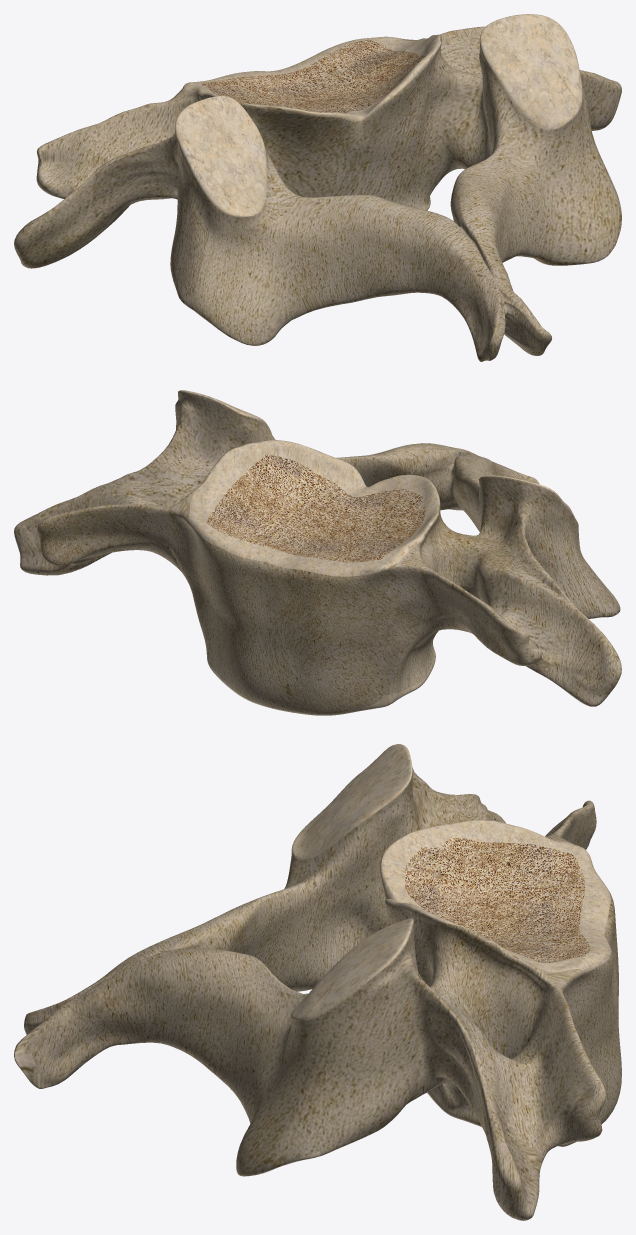
The model's file is vertebra.glb.
The picture shows the model from 3 angles, top to bottom: view 1: azimuth 30°, elevation 25°; view 2: azimuth 150°, elevation 25°; view 3: azimuth 270°, elevation 25°; orthographic projection. The views are drawn at different scales.
Visible parts, largest first — view 1: Object_2, Object_5, Object_4; view 2: Object_2, Object_4, Object_5; view 3: Object_2, Object_5, Object_4.
Part boxes in pixels (bbox=[...]): Object_2: bbox=[14, 26, 621, 361]; Object_5: bbox=[175, 14, 611, 342]; Object_4: bbox=[201, 40, 424, 113]; Object_2: bbox=[14, 391, 621, 713]; Object_4: bbox=[207, 454, 425, 562]; Object_5: bbox=[178, 390, 618, 715]; Object_2: bbox=[14, 767, 621, 1220]; Object_5: bbox=[238, 744, 611, 1176]; Object_4: bbox=[404, 838, 590, 962].
Size of the model in its own units: 0.1564 by 0.0549 by 0.1119.
Materials: 4 (4 with a texture image).
